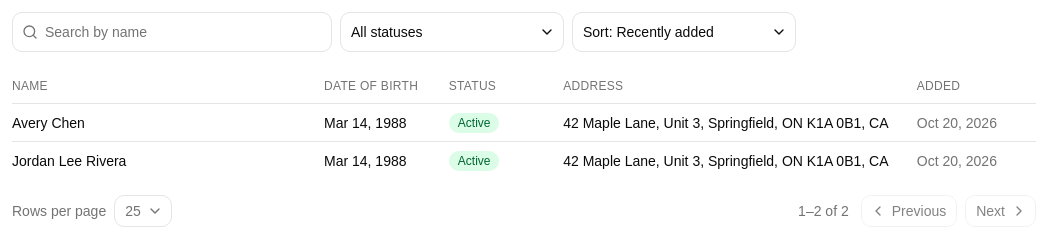
Scenario: PatientDirectory › name search › replaces the table with a no-match message when no names match
In the search field named "Search patients by name": (172,32) [12, 12, 332, 52], type "zed"
Then press Enter
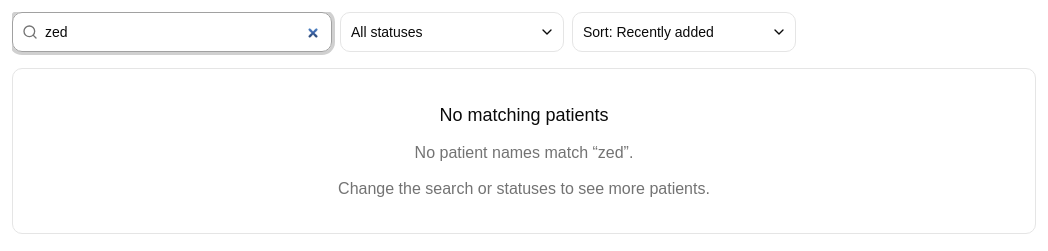
Now the element "No matching patients" shows "No patient names match “zed”.", box [415, 144, 633, 161]
Now the element "No matching patients" shows "Change the search or statuses to see more patients.", box [338, 180, 710, 197]
Now the button "25" is gone
